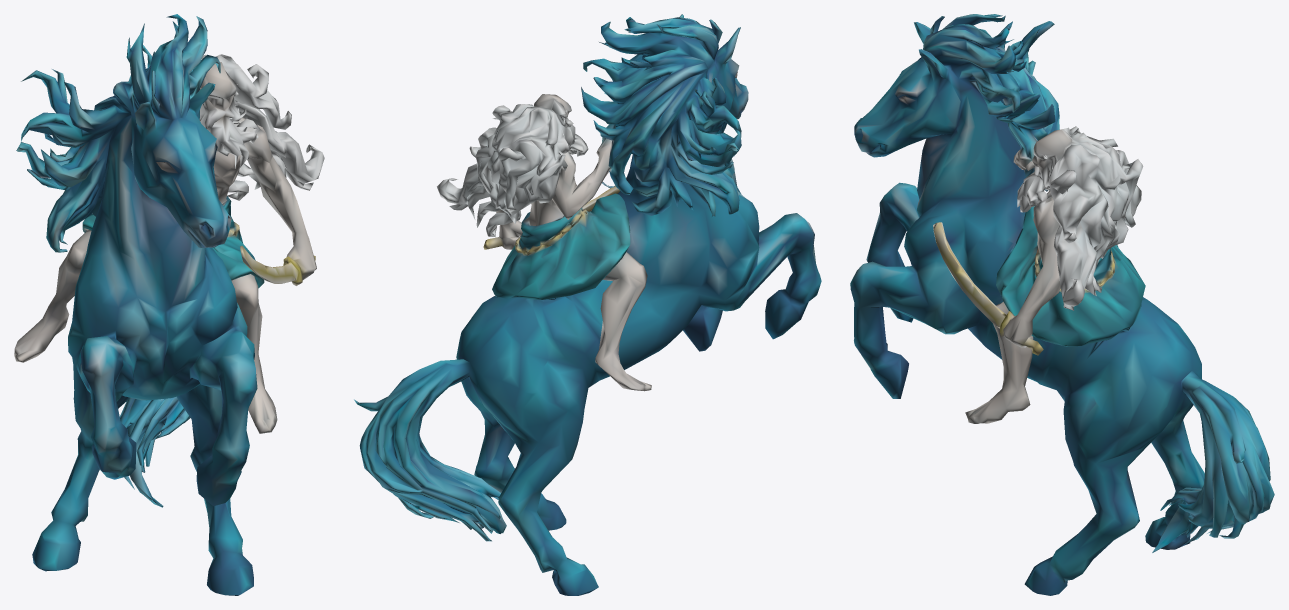
The picture shows the model from 3 angles, left to right: view 1: azimuth 30°, elevation 25°; view 2: azimuth 150°, elevation 25°; view 3: azimuth 270°, elevation 25°; orthographic projection. The views are drawn at different scales.
Parts seen in each view (by area): view 1: Meshy_AI_Stormhoof_Rider_20261120_texture001; view 2: Meshy_AI_Stormhoof_Rider_20261120_texture001; view 3: Meshy_AI_Stormhoof_Rider_20261120_texture001.
Boxes of the visible parts, x1,y1,x2,y2 form: Meshy_AI_Stormhoof_Rider_20261120_texture001: (14, 14, 324, 595); Meshy_AI_Stormhoof_Rider_20261120_texture001: (354, 14, 821, 595); Meshy_AI_Stormhoof_Rider_20261120_texture001: (850, 14, 1274, 595).
Bounding box in the file's own units: 0.0282 × 0.0469 × 0.0343.
